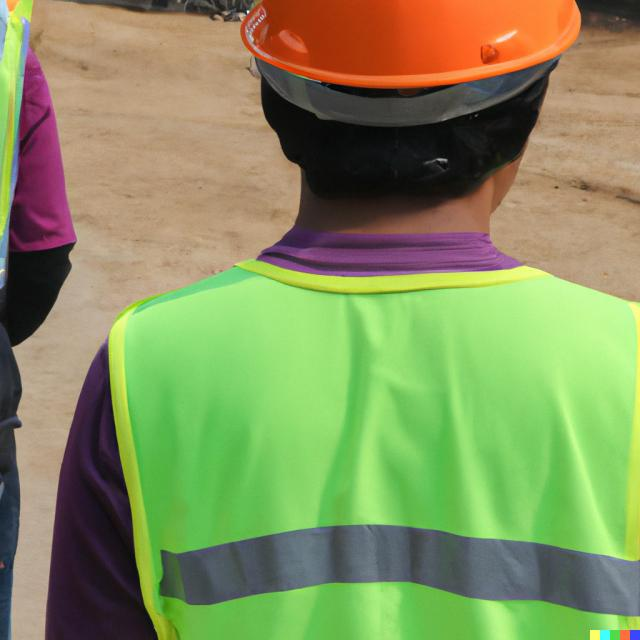Reflective-Jacket: (92, 240, 640, 640)
Safety-Helmet: (240, 0, 588, 93)
